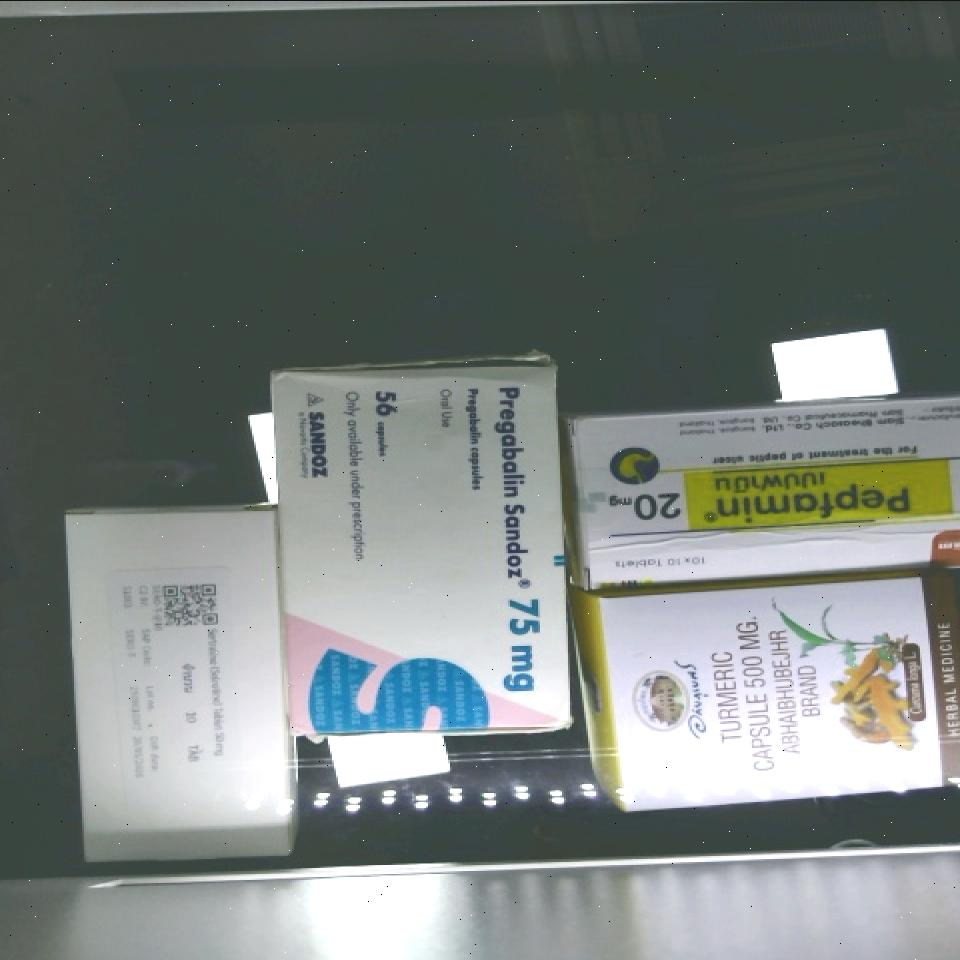medicine_box: (277, 355, 563, 734), (593, 571, 960, 811), (61, 498, 289, 870), (569, 393, 960, 585)
medicine_label_obb: (606, 439, 947, 534), (471, 364, 564, 709), (694, 593, 858, 786)
qr_code: (140, 561, 235, 641)
